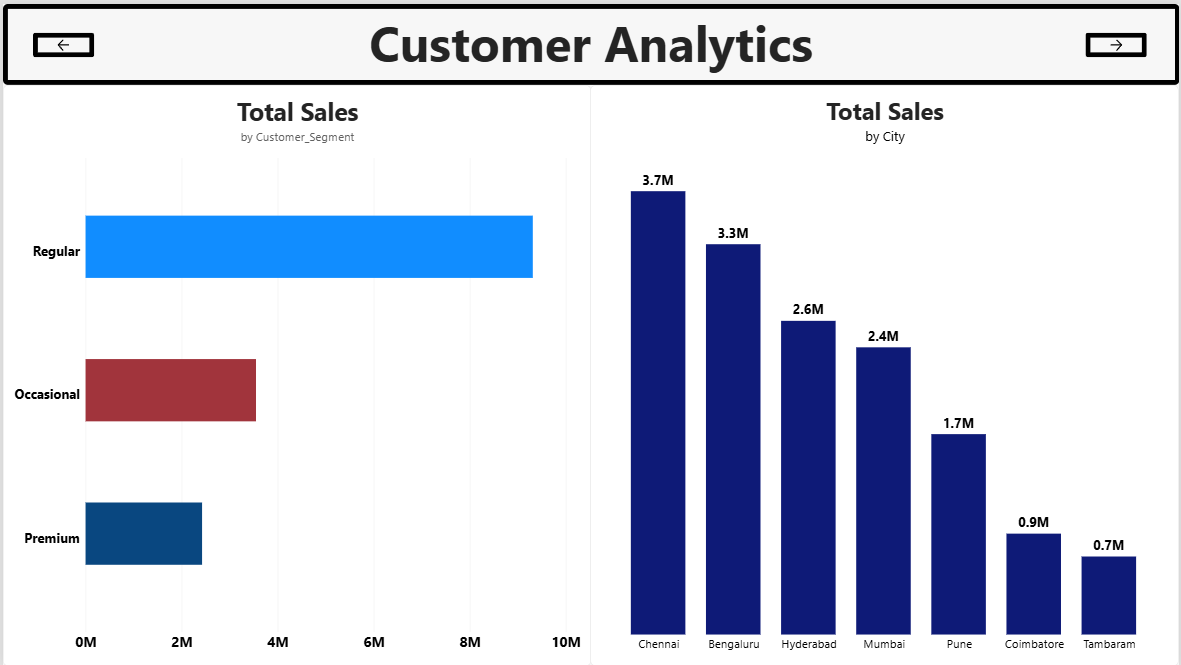

The page's visual inventory and layout, read from the dashboard file:
{"tool":"powerbi","page":{"name":"Page 5","canvas":[1920,1080],"ordinal":4},"visuals":[{"type":"textbox","box":[0,0,1920.4,132.3],"z":0},{"type":"actionButton","box":[48.1,46.1,100,40],"z":1},{"type":"actionButton","box":[1768.1,46.1,100,40],"z":2},{"type":"barChart","fields":{"Category":["Customers.Customer_Segment"],"Y":["Sales_Orders.Total Sales"]},"box":[0,132.3,960.2,948.2],"z":3},{"type":"clusteredColumnChart","fields":{"Category":["Customers.City"],"Y":["Sales_Orders.Total Sales"]},"box":[960,132,960,948],"z":4}]}

Visuals, with their boxes in screenshot pixels (x1, y1, x2, y2), scaled from the page's 1920x1080 canvas onto the 1181x665 screenshot:
textbox: <bbox>0, 0, 1180, 81</bbox>
actionButton: <bbox>30, 28, 91, 53</bbox>
actionButton: <bbox>1088, 28, 1149, 53</bbox>
barChart - Customers.Customer_Segment x Sales_Orders.Total Sales: <bbox>0, 81, 591, 664</bbox>
clusteredColumnChart - Customers.City x Sales_Orders.Total Sales: <bbox>590, 81, 1180, 664</bbox>
